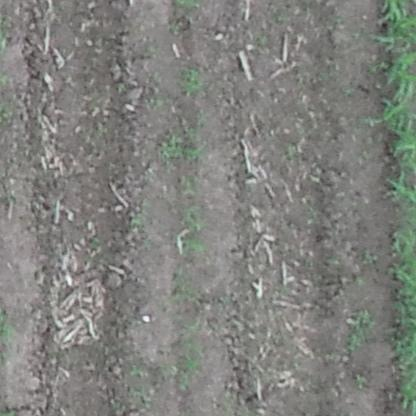corn: (374, 4, 414, 199), (392, 219, 416, 402), (177, 63, 206, 97)
